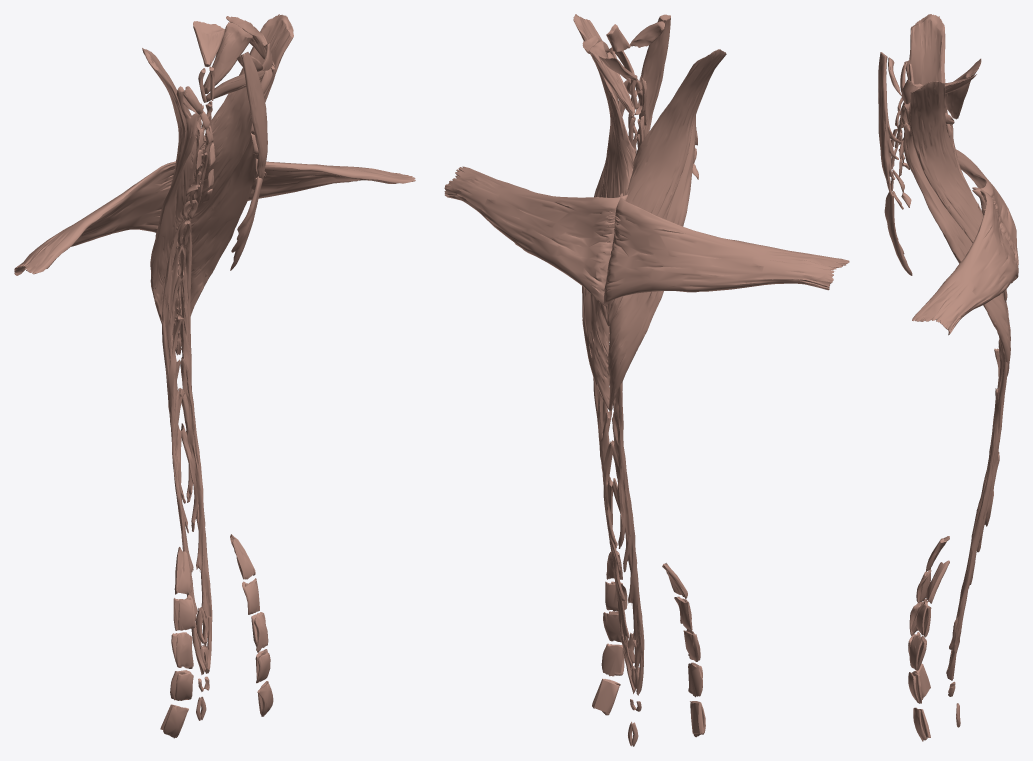
The model's file is other-23.glb.
The picture shows the model from 3 angles, left to right: view 1: azimuth 30°, elevation 25°; view 2: azimuth 150°, elevation 25°; view 3: azimuth 270°, elevation 25°; orthographic projection. The views are drawn at different scales.
Visible parts, largest first — view 1: FJ1554, FJ1545M, FJ1544M, FJ1546M, FJ1544, FJ1554M, FJ1546, FJ1548, FJ1545, FJ1561, FJ1548M, FJ1567 (+5 smaller); view 2: FJ1554, FJ1554M, FJ1545, FJ1546, FJ1544, FJ1545M, FJ1544M, FJ1546M, FJ1547M, FJ1547, FJ1561, FJ1567; view 3: FJ1554M, FJ1545M, FJ1546M, FJ1544M, FJ1545, FJ1554, FJ1561, FJ1547M, FJ1548M, FJ1547, FJ1557, FJ1544 (+6 smaller).
Boxes of the visible parts, <box> form: FJ1554: <box>14,161,175,275</box>; FJ1545M: <box>177,14,293,267</box>; FJ1544M: <box>178,217,212,673</box>; FJ1546M: <box>177,65,275,354</box>; FJ1544: <box>162,219,205,674</box>; FJ1554M: <box>247,161,415,200</box>; FJ1546: <box>150,86,201,355</box>; FJ1548: <box>163,595,195,738</box>; FJ1545: <box>142,48,203,264</box>; FJ1561: <box>241,52,267,179</box>; FJ1548M: <box>242,581,273,716</box>; FJ1567: <box>203,22,252,93</box>; FJ1554: <box>603,193,849,305</box>; FJ1554M: <box>444,166,628,306</box>; FJ1545: <box>607,49,726,326</box>; FJ1546: <box>608,115,696,410</box>; FJ1544: <box>610,382,644,695</box>; FJ1545M: <box>573,14,635,326</box>; FJ1544M: <box>593,333,635,693</box>; FJ1546M: <box>582,47,630,410</box>; FJ1547M: <box>592,551,623,712</box>; FJ1547: <box>662,563,703,734</box>; FJ1561: <box>634,14,670,135</box>; FJ1567: <box>589,41,632,114</box>; FJ1554M: <box>912,187,1018,335</box>; FJ1545M: <box>909,81,1007,302</box>; FJ1546M: <box>902,103,1010,376</box>; FJ1544M: <box>946,336,1007,680</box>; FJ1545: <box>909,14,1007,295</box>; FJ1554: <box>955,149,1018,283</box>; FJ1561: <box>878,52,901,196</box>; FJ1547M: <box>910,560,949,738</box>; FJ1548M: <box>908,600,927,741</box>; FJ1547: <box>910,536,949,697</box>; FJ1557: <box>884,191,912,275</box>; FJ1544: <box>946,339,999,672</box>.
Size of the model in its own units: 0.3265 by 0.5641 by 0.1057.
